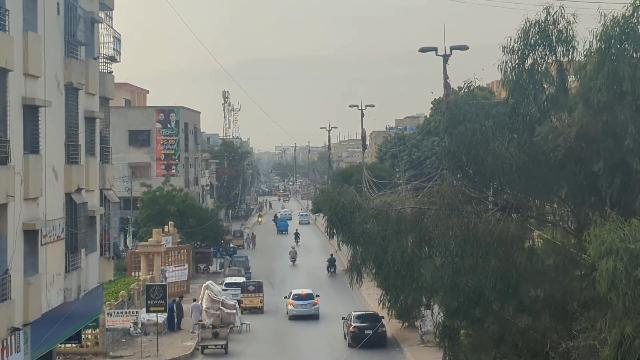Bike: (329, 263, 335, 277)
Car: (342, 311, 389, 347), (283, 289, 321, 320), (219, 276, 244, 303)
Cart: (196, 325, 232, 356)
Person: (188, 298, 203, 331), (175, 293, 186, 331), (168, 298, 177, 333), (326, 253, 336, 266)
Rickshaw: (240, 280, 267, 313)
